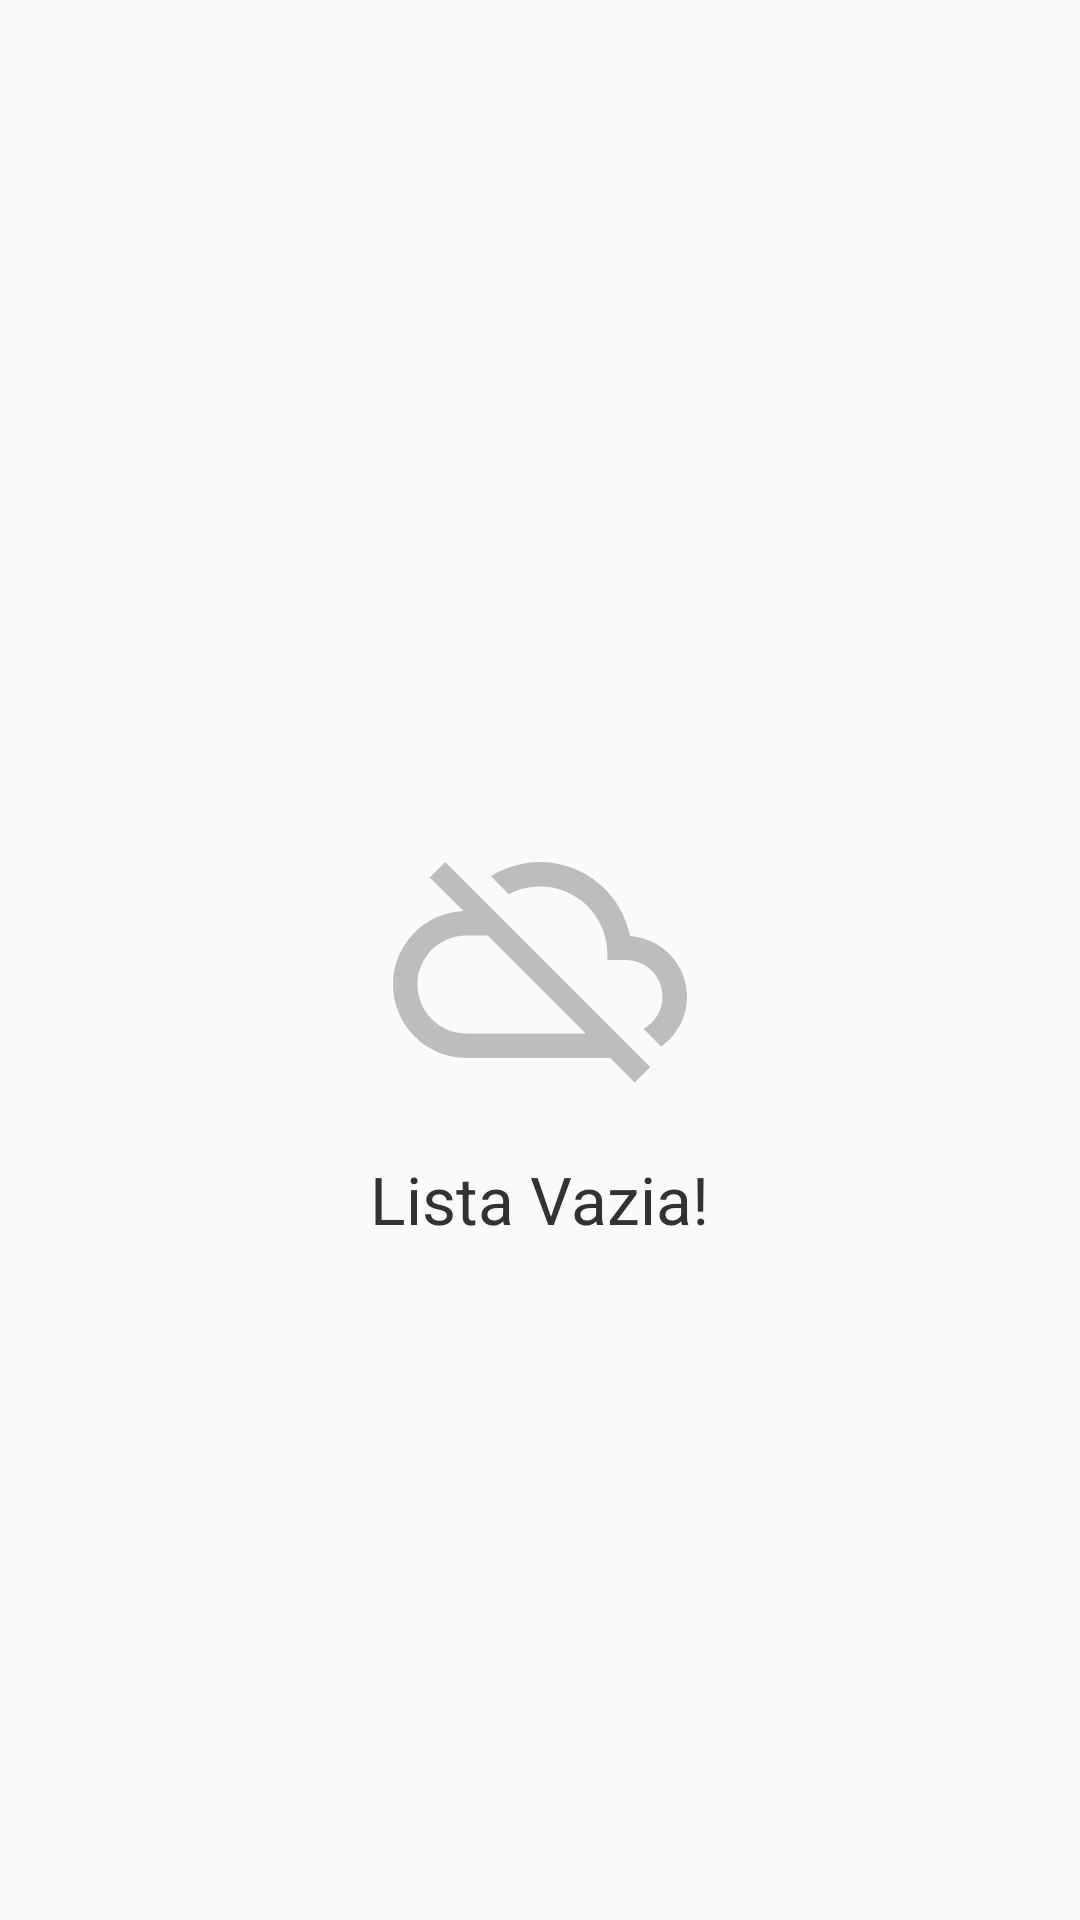

Screen size 1080*1920. Icon name, then its box in pixels as region(x1, y1, x2, y2):
cloud off: region(393, 862, 687, 1082)
